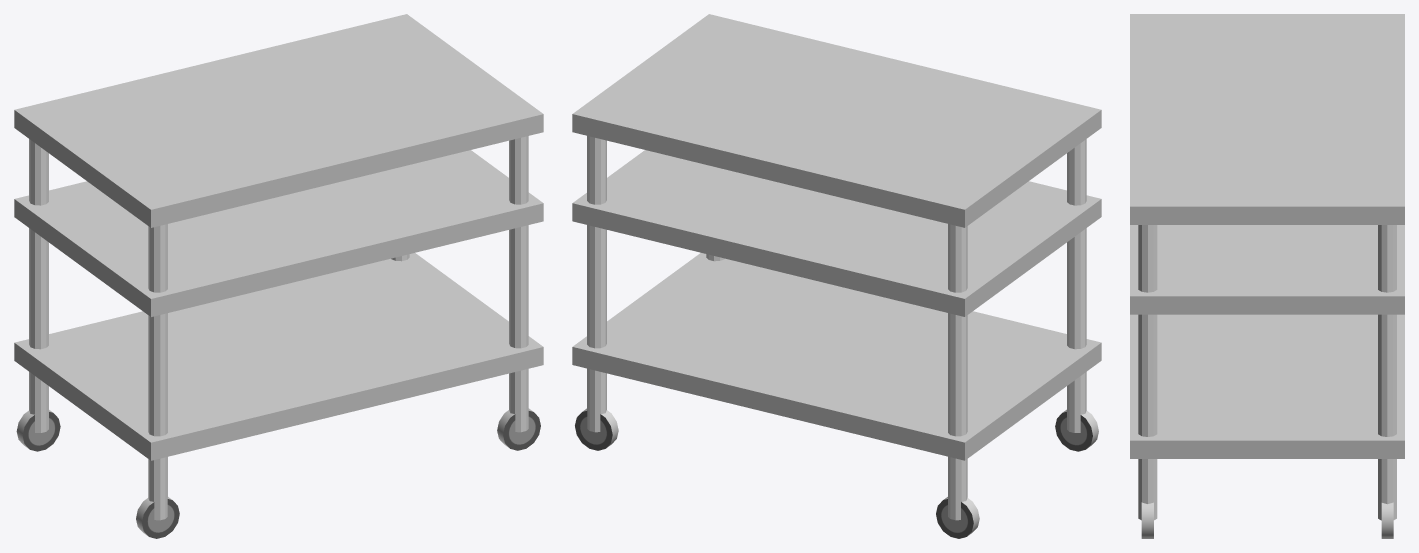
The model's file is TrolleyCart.fbx.
3 renders of one model, left to right at view 1: azimuth 30°, elevation 25°; view 2: azimuth 150°, elevation 25°; view 3: azimuth 270°, elevation 25°, orthographic.
Visible parts, largest first — view 1: pCylinder10; view 2: pCylinder10; view 3: pCylinder10.
Part boxes in pixels (box(x1,y1,x2,y2)): pCylinder10: box(14, 14, 543, 538); pCylinder10: box(572, 14, 1101, 538); pCylinder10: box(1130, 14, 1404, 538).
Size of the model in its own units: 47.71 by 38.4 by 28.31.
